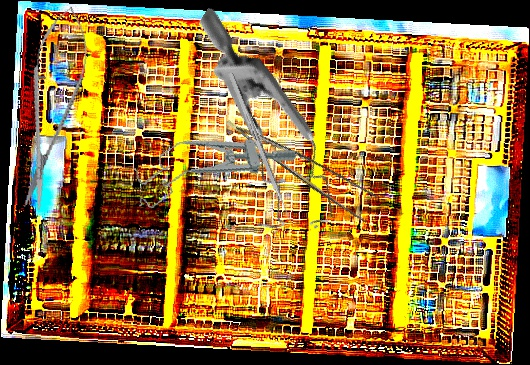Micro Scissor: (5, 2, 98, 214)
Pusher: (227, 72, 296, 230)
Speculum: (123, 6, 392, 257), (126, 116, 300, 211)
Tissue Forceps: (225, 97, 384, 228)
